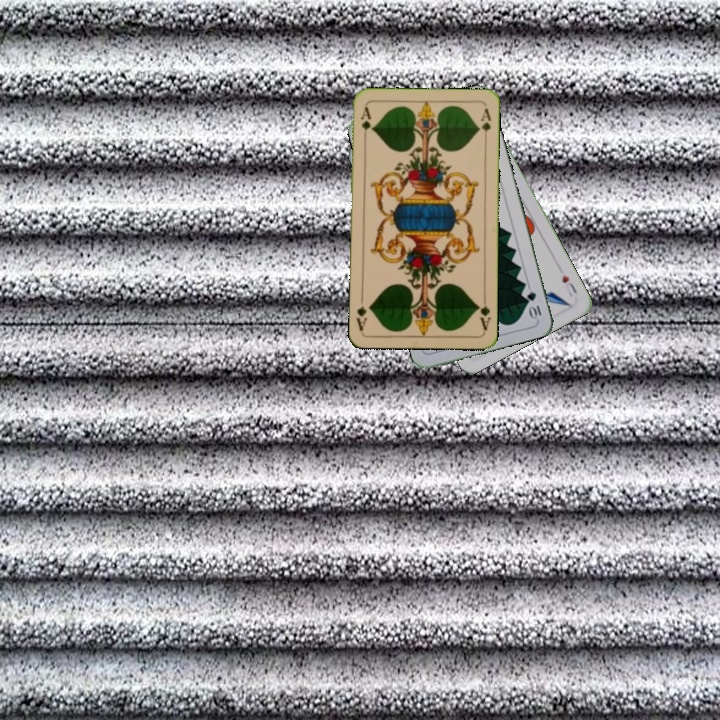G10: (523, 287, 544, 322)
GA: (473, 292, 493, 333), (357, 103, 374, 143)
HU: (558, 270, 580, 299)
